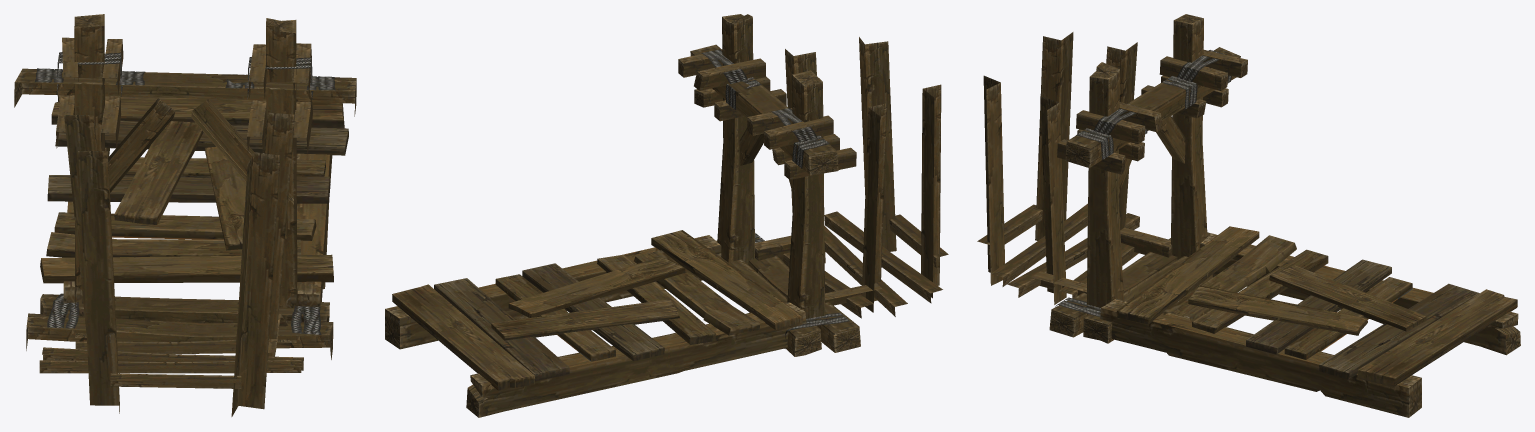
File: 6001_Item_mutou_3.FBX
3 renders of one model, left to right at view 1: azimuth 30°, elevation 25°; view 2: azimuth 150°, elevation 25°; view 3: azimuth 270°, elevation 25°, orthographic. The views are drawn at different scales.
Visible parts, largest first — view 1: 6001_Item_mutou_3; view 2: 6001_Item_mutou_3; view 3: 6001_Item_mutou_3.
Boxes of the visible parts, <box> form: 6001_Item_mutou_3: <box>14,14,356,416</box>; 6001_Item_mutou_3: <box>385,14,948,417</box>; 6001_Item_mutou_3: <box>977,14,1520,417</box>.
Size of the model in its own units: 458 by 292 by 552.
